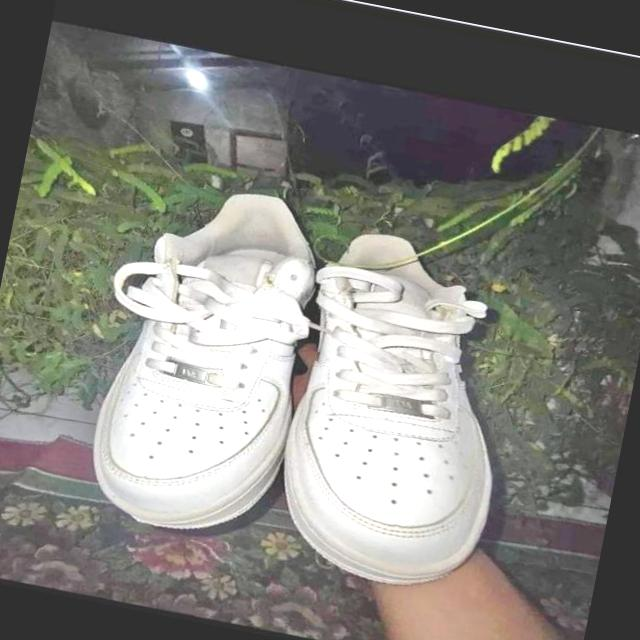nike_fake_airforce: (255, 222, 536, 602), (76, 172, 336, 552)
